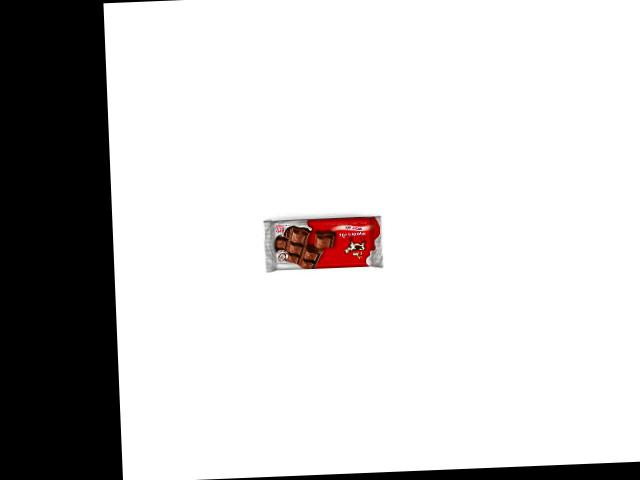chocolate: (259, 215, 384, 273)
